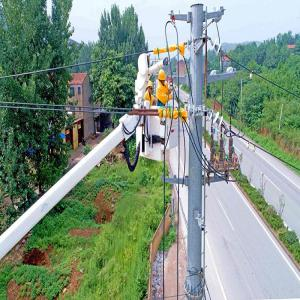yellow: (158, 68, 167, 87), (146, 80, 154, 96)
